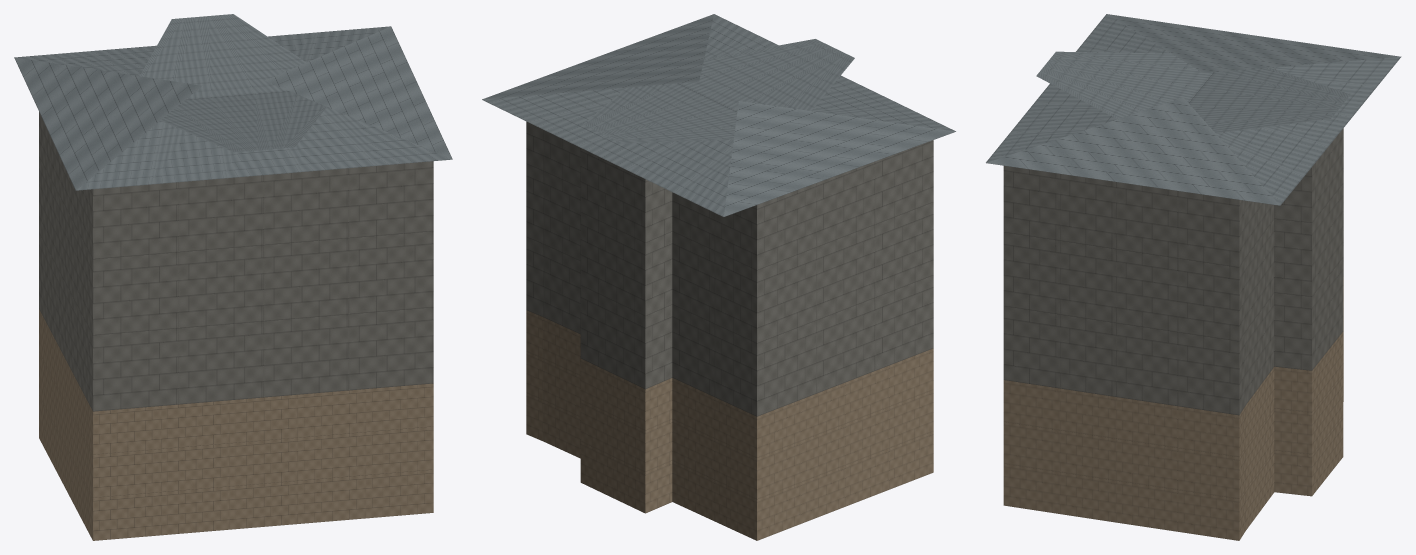
The model's file is bld_c43_32_269.gltf.
3 renders of one model, left to right at view 1: azimuth 30°, elevation 25°; view 2: azimuth 150°, elevation 25°; view 3: azimuth 270°, elevation 25°, orthographic. The views are drawn at different scales.
Parts seen in each view (by area): view 1: bld_c43_32_269; view 2: bld_c43_32_269; view 3: bld_c43_32_269.
Part boxes in pixels (x1=…): bld_c43_32_269: x1=14, y1=14, x2=452, y2=540; bld_c43_32_269: x1=482, y1=14, x2=955, y2=540; bld_c43_32_269: x1=986, y1=14, x2=1401, y2=540.
Size of the model in its own units: 16.71 by 15.1 by 15.32.
Materials: 3 (3 with a texture image).
